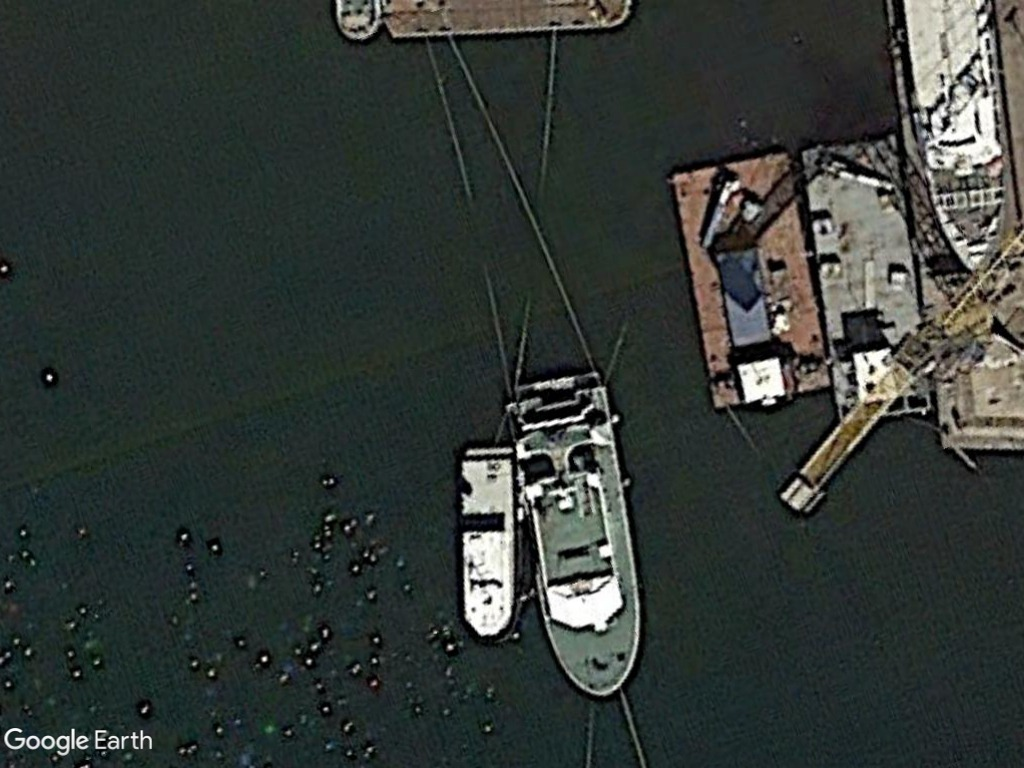boat: (501, 363, 649, 701), (455, 445, 522, 648)
